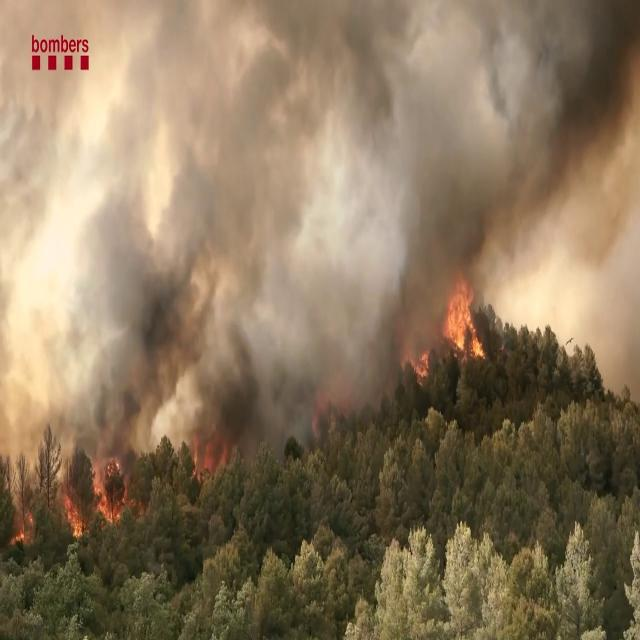Fire: (59, 443, 129, 545), (439, 274, 486, 366)
Smoke: (0, 1, 639, 455)
